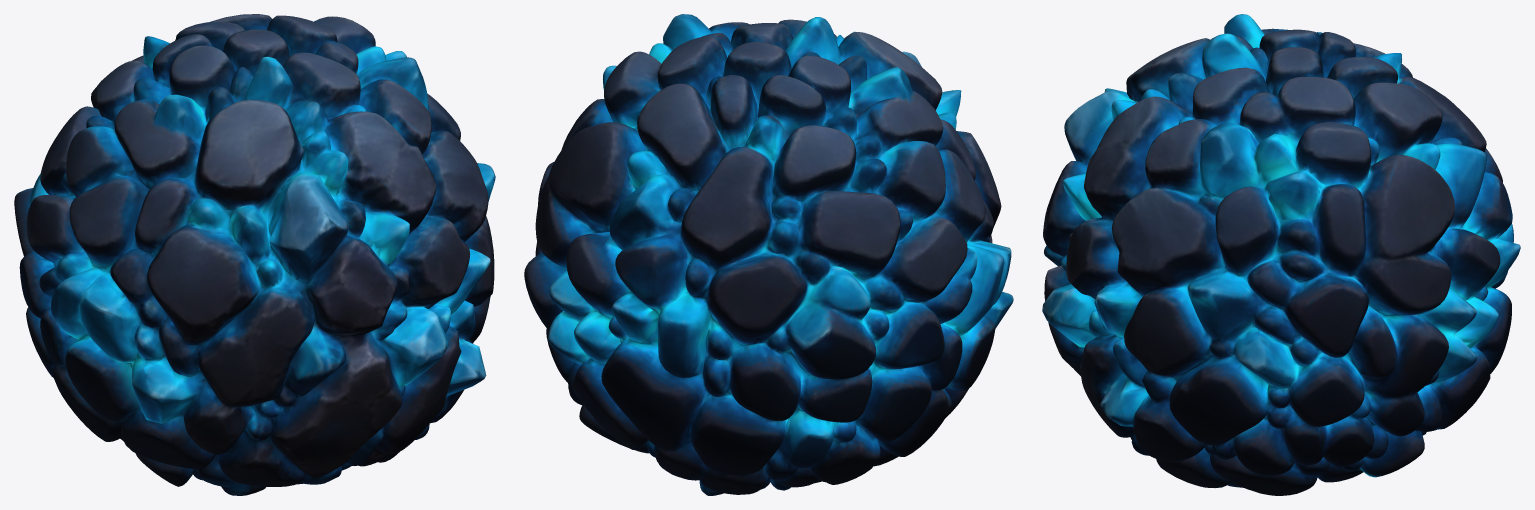
Rendered from crystal-sphere.glb.
3 views of the same model, side by side, from view 1: azimuth 30°, elevation 25°; view 2: azimuth 150°, elevation 25°; view 3: azimuth 270°, elevation 25° (orthographic). The views are drawn at different scales.
Visible parts, largest first — view 1: node_0; view 2: node_0; view 3: node_0.
Part boxes in pixels (bbox=[...]): node_0: bbox=[14, 14, 495, 495]; node_0: bbox=[524, 14, 1013, 495]; node_0: bbox=[1042, 14, 1520, 495].
Size of the model in its own units: 1.12 by 1.1 by 1.12.
Materials: 1 (1 with a texture image).
